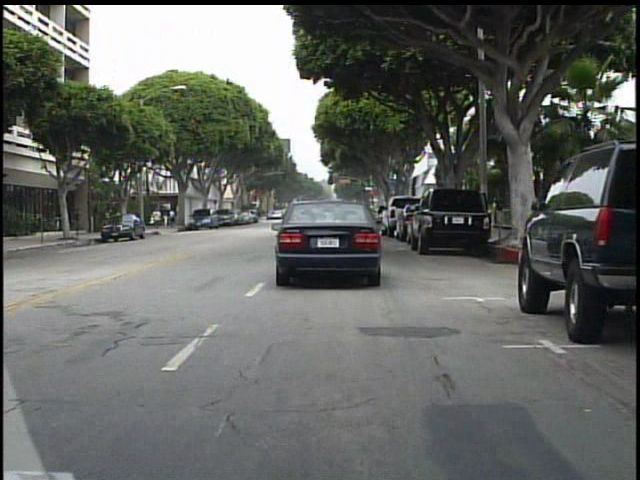person: (150, 204, 165, 233), (168, 204, 181, 231)
